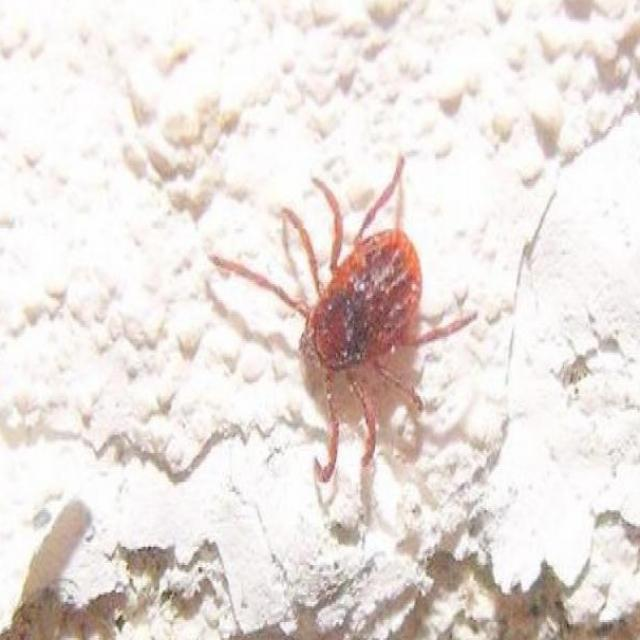Rhipicephalus Sanguineus-F: (210, 154, 480, 512)
